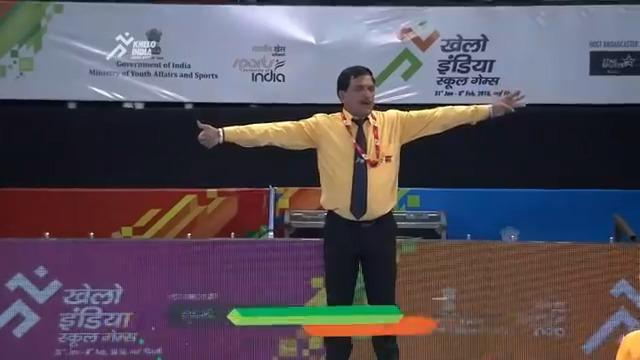referee: (196, 64, 528, 358)
